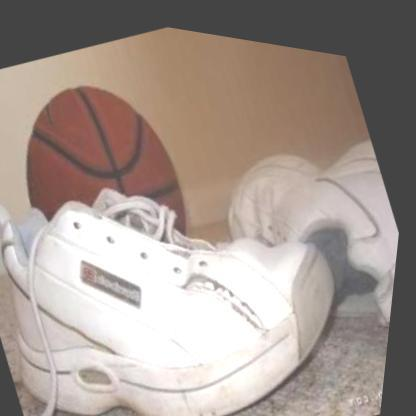basketball: (0, 36, 226, 306)
